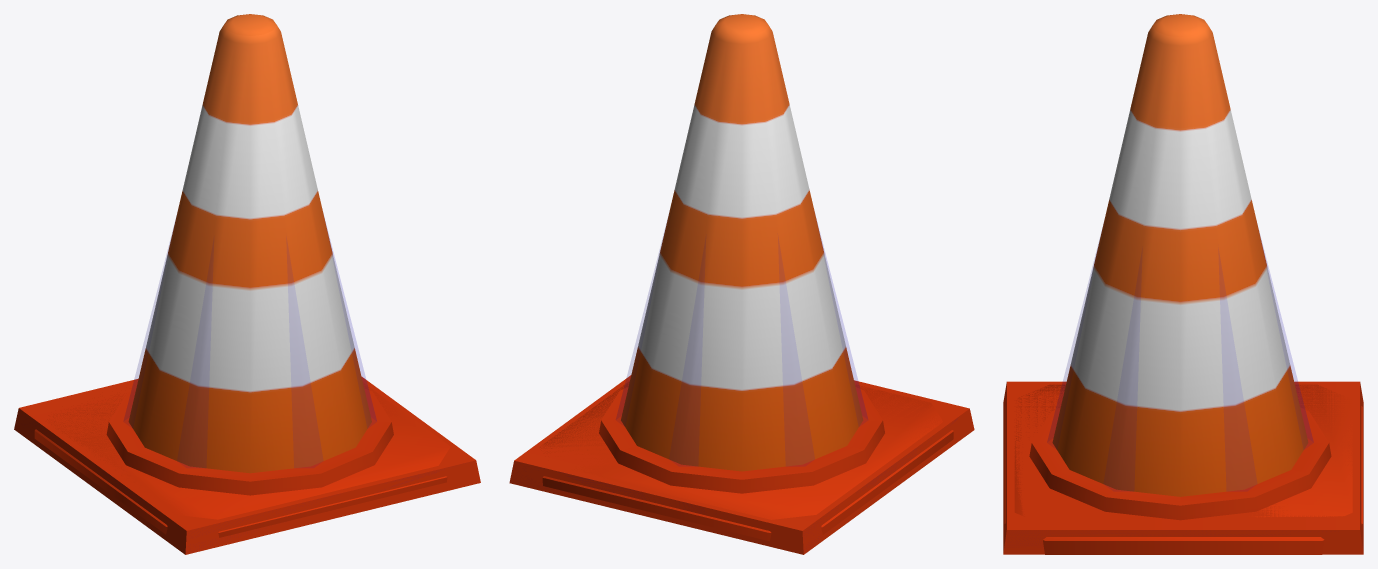
3 renders of one model, left to right at view 1: azimuth 30°, elevation 25°; view 2: azimuth 150°, elevation 25°; view 3: azimuth 270°, elevation 25°, orthographic. The views are drawn at different scales.
Visible parts, largest first — view 1: ConeA, ConeB, ConeColider; view 2: ConeA, ConeB, ConeColider; view 3: ConeA, ConeB, ConeColider.
Part boxes in pixels (box(x1,y1,x2,y2)): ConeA: box(34, 14, 450, 537); ConeB: box(14, 376, 480, 554); ConeColider: box(124, 226, 376, 420); ConeA: box(540, 14, 953, 541); ConeB: box(509, 375, 974, 554); ConeColider: box(616, 228, 867, 419); ConeA: box(1004, 14, 1362, 554); ConeB: box(1003, 381, 1363, 554); ConeColider: box(1048, 244, 1312, 441).
Size of the model in its own units: 0.7017 by 0.9859 by 0.7042.
Materials: 2 (1 with a texture image).
